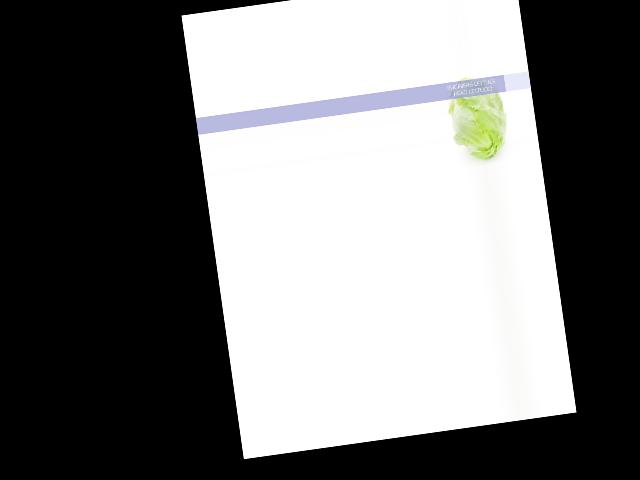lettuce: (444, 72, 510, 167)
